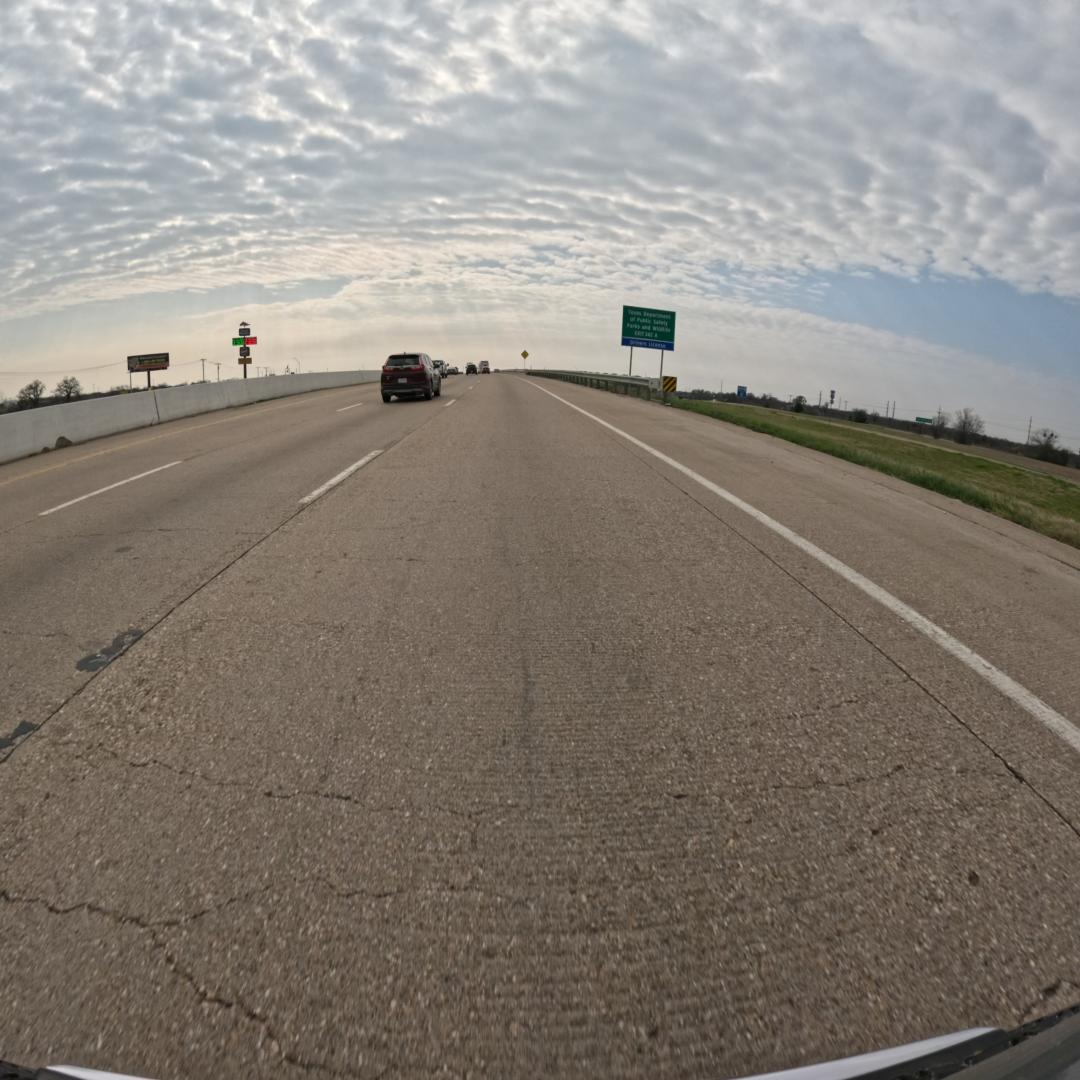lane0: (0, 376, 1080, 1077)
lane1: (0, 393, 454, 764)
